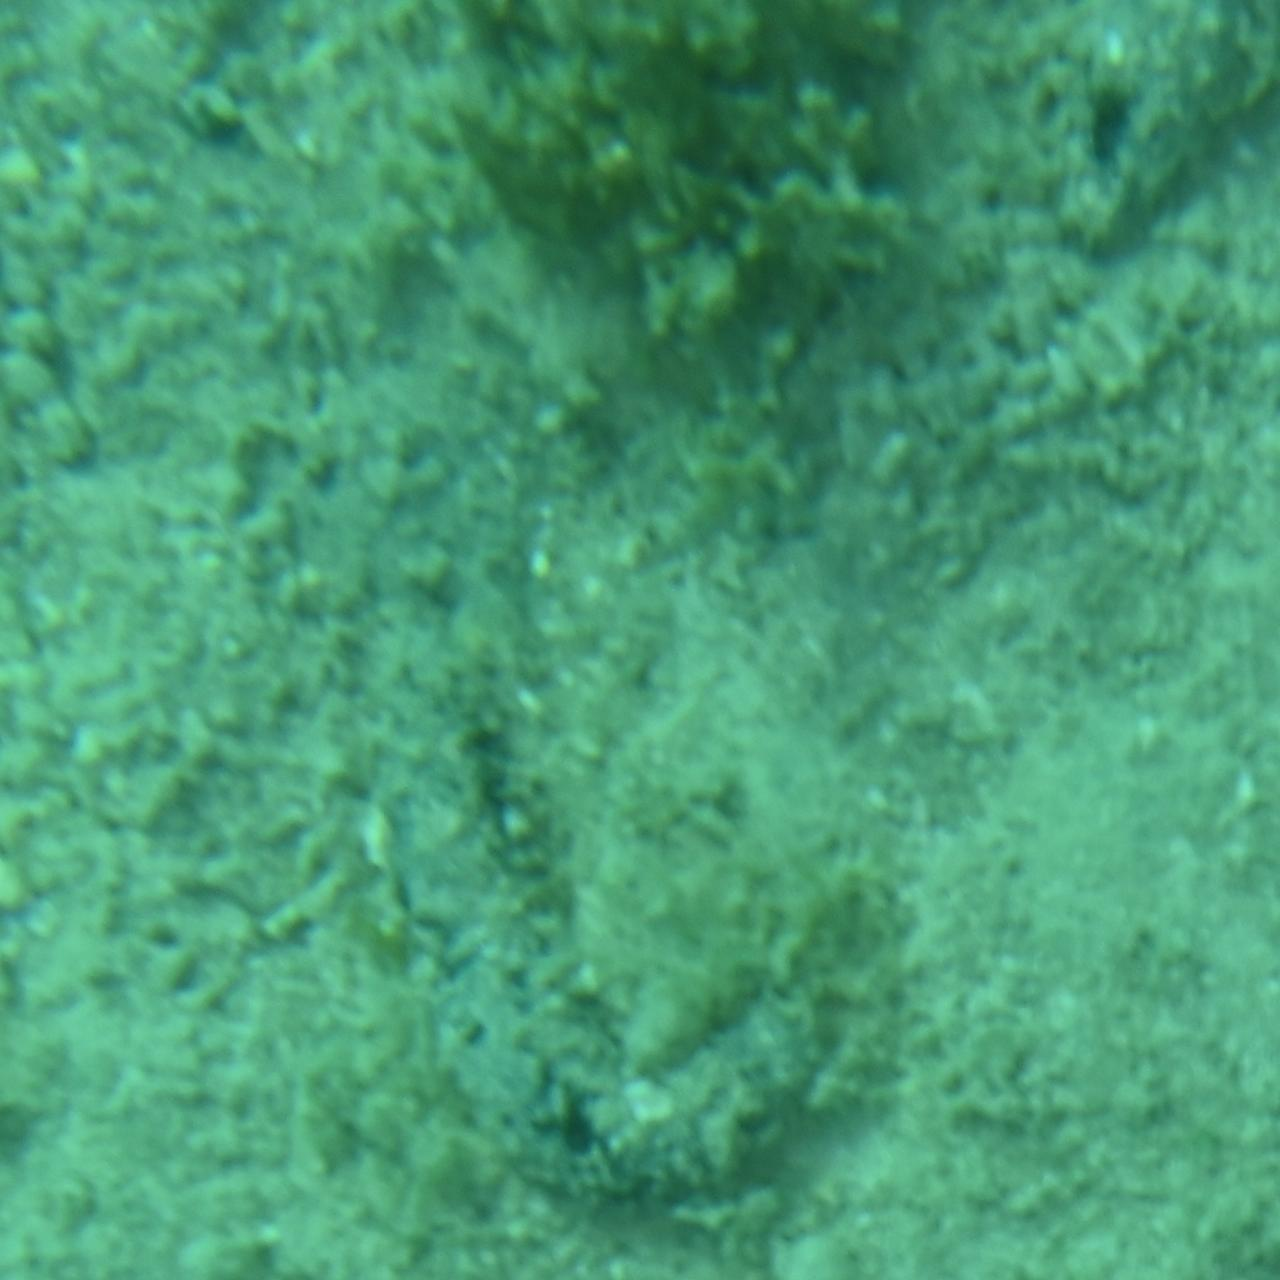Holothuria tubulosa: (321, 358, 845, 1221)
Phaeophyceae -cfr Cystoseira-: (433, 0, 961, 339)
